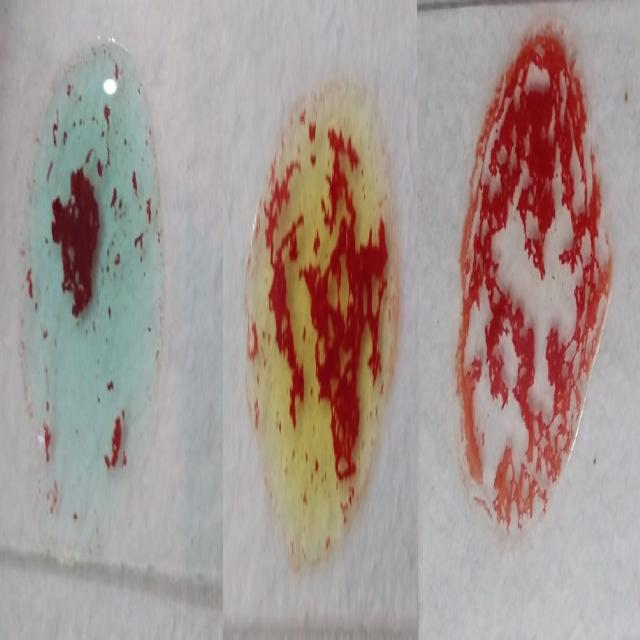A: (22, 37, 166, 548)
B: (245, 89, 395, 550)
D: (457, 28, 610, 535)
